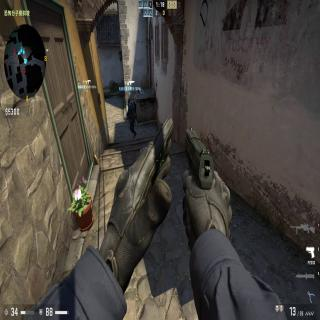CT-Body: (126, 97, 137, 139)
CT-Head: (128, 98, 132, 103)
